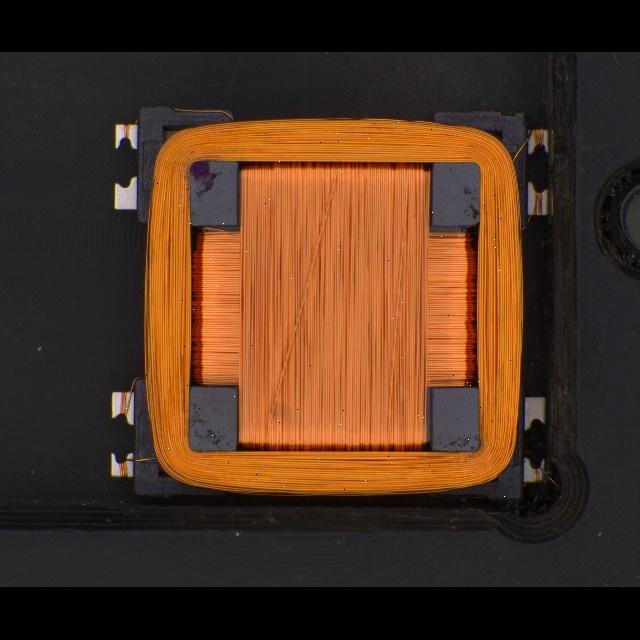Winding_Z: (126, 108, 527, 498)
